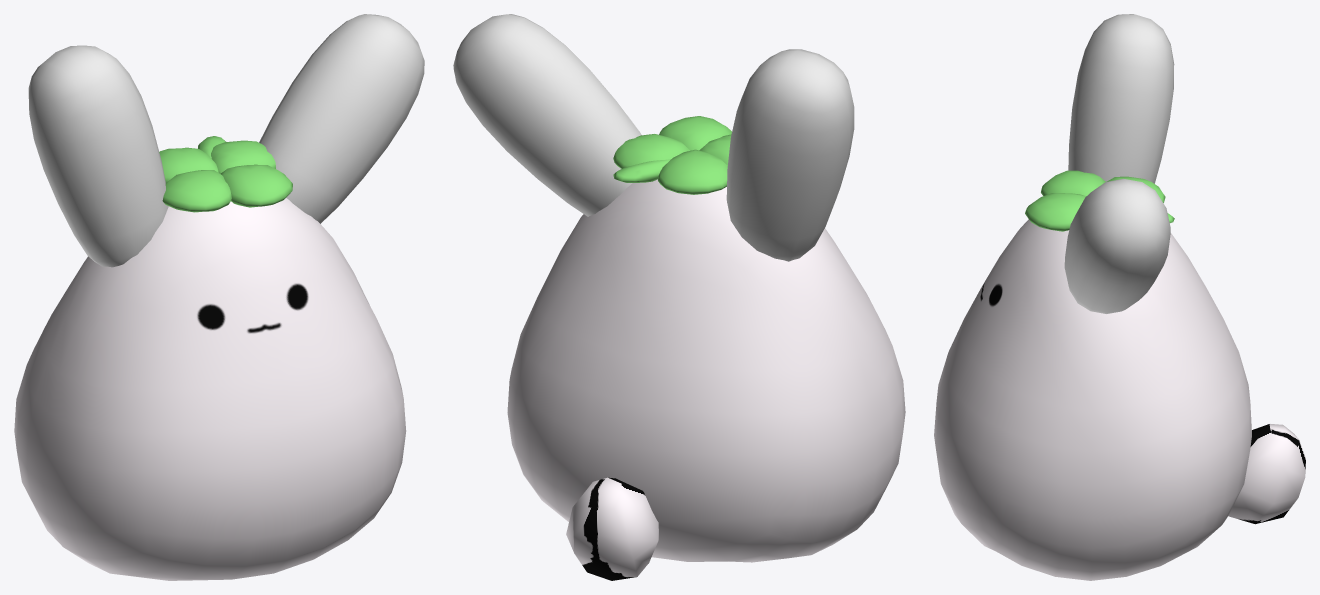
File: rabbit_clover_v0.3.glb
3 renders of one model, left to right at view 1: azimuth 30°, elevation 25°; view 2: azimuth 150°, elevation 25°; view 3: azimuth 270°, elevation 25°, orthographic. The views are drawn at different scales.
Visible parts, largest first — view 1: body, ear.01, ear.02, clover.003, clover.001, clover.002, clover; view 2: body, ear.02, ear.01, tail, clover, clover.002, clover.001, clover.004; view 3: body, ear.01, ear.02, tail, clover.001, clover.003.
Part boxes in pixels (<box>): body: <box>14,198,406,580</box>; ear.01: <box>28,45,168,267</box>; ear.02: <box>259,14,424,223</box>; clover.003: <box>162,170,231,212</box>; clover.001: <box>221,164,292,207</box>; clover.002: <box>211,140,275,173</box>; clover: <box>159,147,218,182</box>; body: <box>507,179,905,562</box>; ear.02: <box>453,14,641,216</box>; ear.01: <box>726,49,854,261</box>; tail: <box>566,477,658,580</box>; clover: <box>658,149,727,194</box>; clover.002: <box>613,134,690,168</box>; clover.001: <box>659,116,731,150</box>; clover.004: <box>613,159,671,182</box>; body: <box>934,219,1251,580</box>; ear.01: <box>1068,14,1174,183</box>; ear.02: <box>1064,178,1170,313</box>; tail: <box>1228,424,1305,524</box>; clover.001: <box>1025,193,1086,231</box>; clover.003: <box>1041,170,1105,195</box>.
Size of what is drawn, in the model's own units: 2.15 by 2.64 by 1.91.
Materials: 3 (1 with a texture image).
